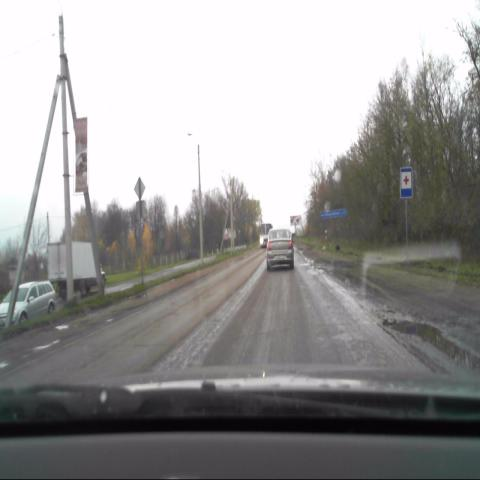7_1: (400, 165, 413, 197)
